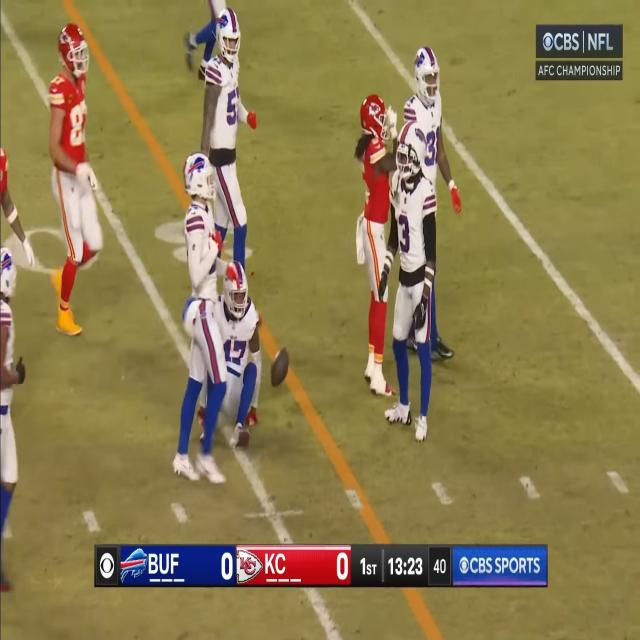Ball: (270, 346, 290, 388)
